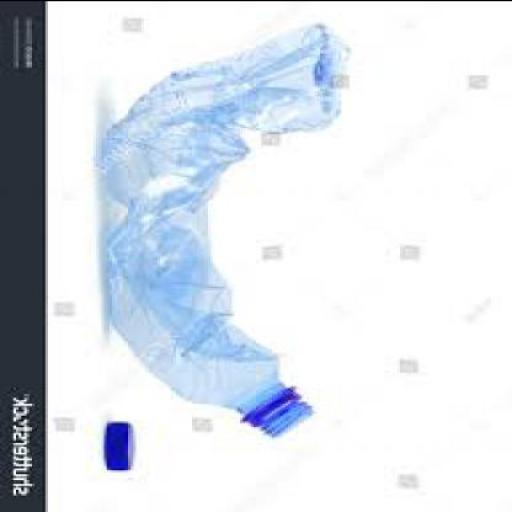plastic: (104, 24, 355, 440), (106, 422, 136, 472)
